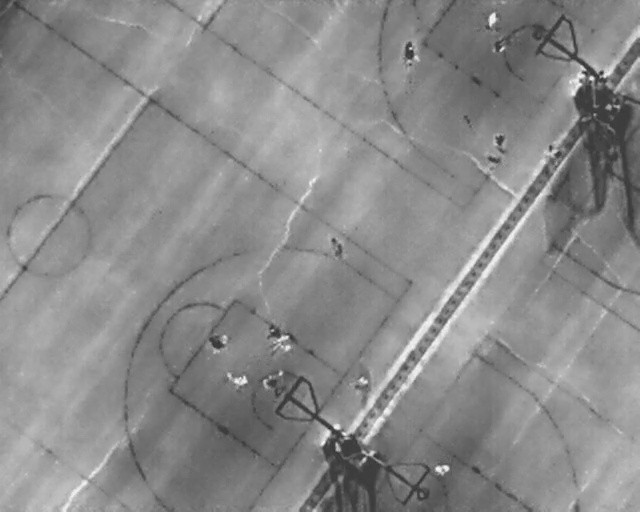Person: (226, 371, 250, 394), (208, 330, 226, 357), (263, 371, 281, 393), (406, 41, 419, 71), (353, 373, 370, 395), (329, 235, 343, 260), (487, 8, 501, 32), (486, 152, 501, 174), (495, 131, 507, 156), (266, 322, 281, 341), (435, 464, 452, 477)
